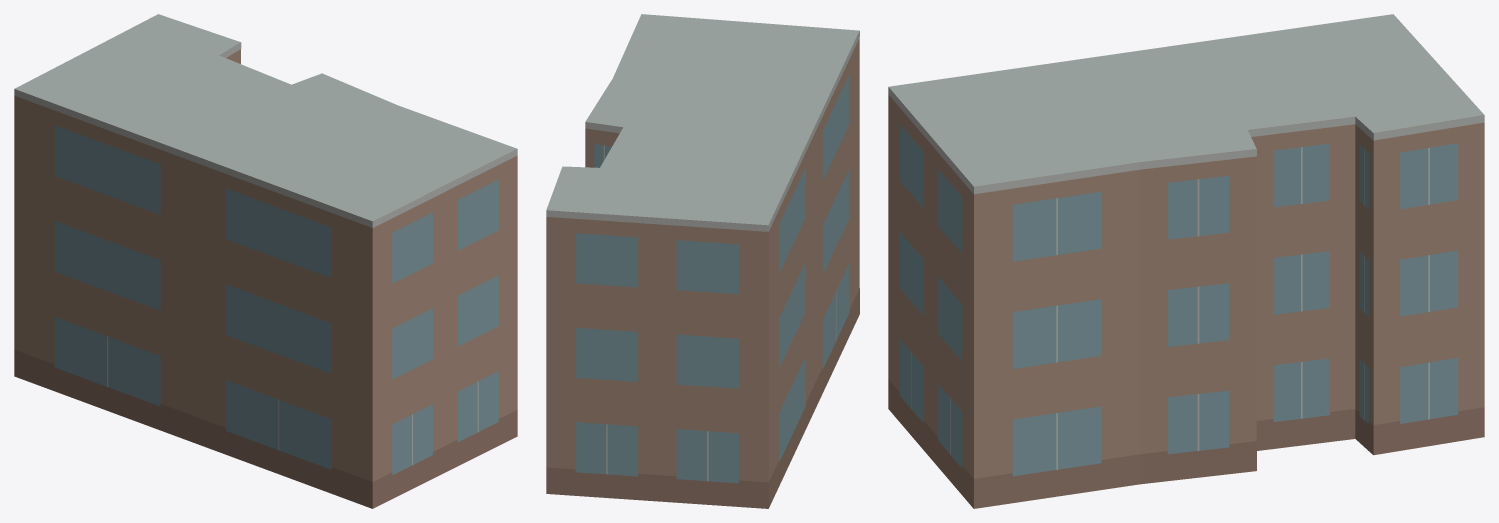
Rendered from survey-upis-32908210.glb.
The picture shows the model from 3 angles, left to right: view 1: azimuth 30°, elevation 25°; view 2: azimuth 150°, elevation 25°; view 3: azimuth 270°, elevation 25°; orthographic projection. The views are drawn at different scales.
Parts seen in each view (by area): view 1: survey-upis-32908210.tmp; view 2: survey-upis-32908210.tmp; view 3: survey-upis-32908210.tmp.
Boxes of the visible parts, x1=… form: survey-upis-32908210.tmp: x1=14, y1=14, x2=517, y2=508; survey-upis-32908210.tmp: x1=546, y1=14, x2=859, y2=508; survey-upis-32908210.tmp: x1=888, y1=14, x2=1484, y2=508.
Bounding box in the file's own units: 12.09 × 10.5 × 17.63.
